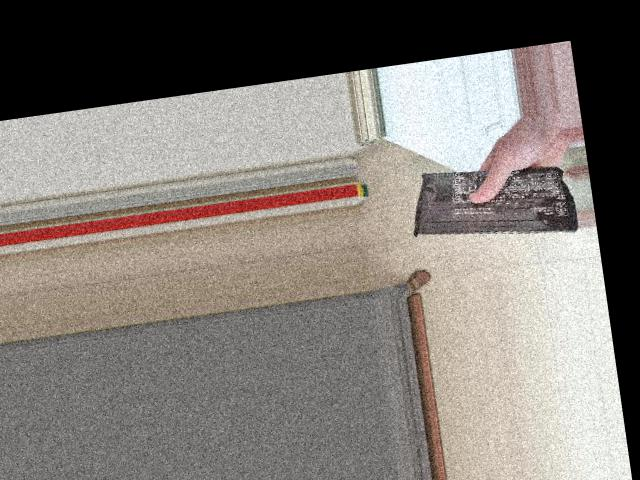chocolate: (401, 159, 575, 252)
